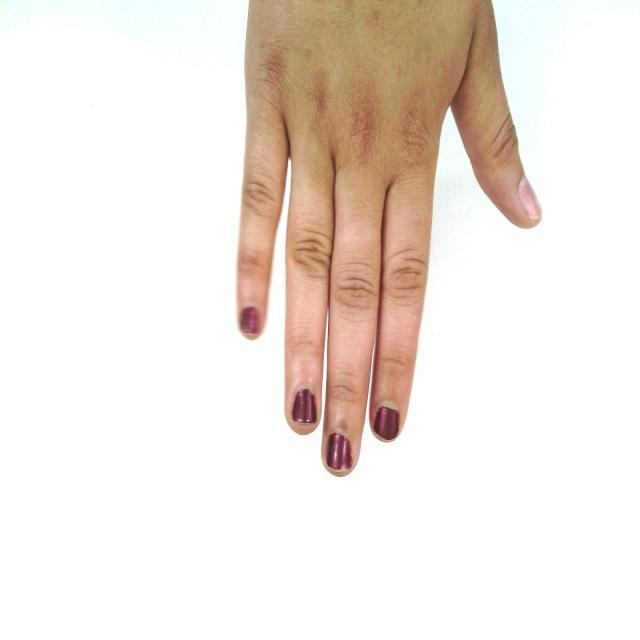Fingernail: (518, 176, 543, 219), (327, 429, 353, 470), (374, 401, 400, 441), (291, 385, 317, 423), (240, 303, 260, 334)
